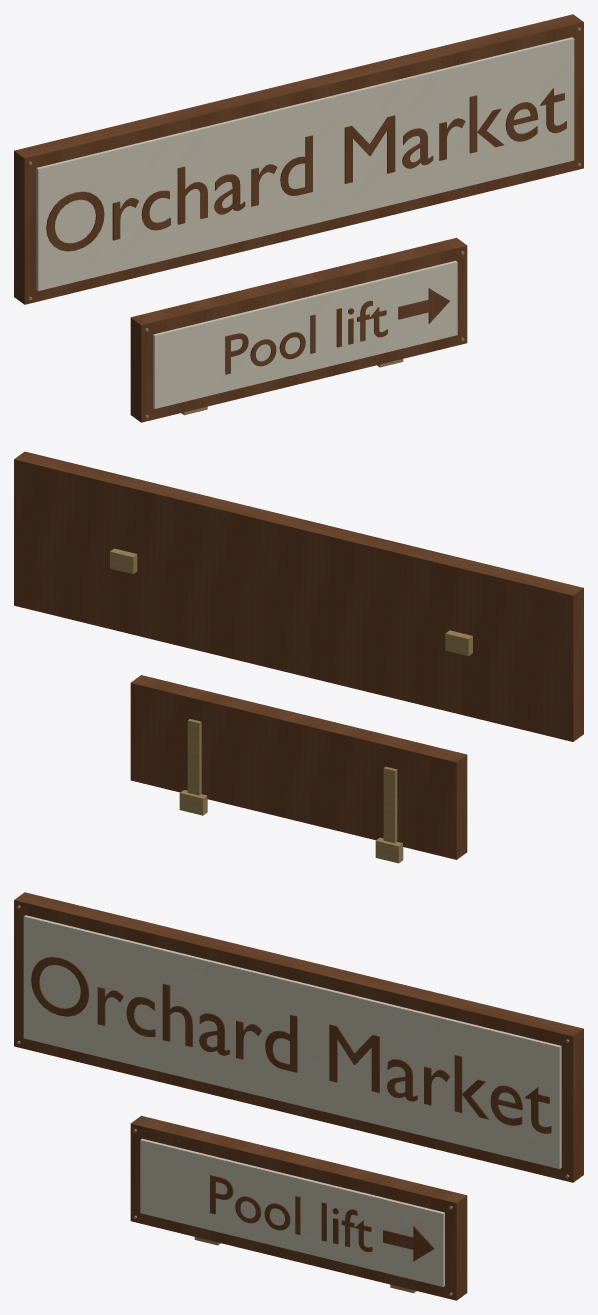
The model's file is AST-RES-001_east_lift_wayfinding.glb.
The picture shows the model from 3 angles, top to bottom: view 1: azimuth 30°, elevation 25°; view 2: azimuth 150°, elevation 25°; view 3: azimuth 330°, elevation 25°; orthographic projection.
Parts seen in each view (by area): view 1: EAST_PWF_main_D09_MapBacking, EAST_PWF_main_D09_MapFrame, EAST_PWF_threshold_lift_MapBacking, EAST_PWF_threshold_lift_MapFrame, EAST_PWF_main_D09_Glyphs_0, EAST_PWF_threshold_lift_Glyphs_0, EAST_Sign_threshold_lift_RouteArrow; view 2: EAST_PWF_main_D09_MapFrame, EAST_PWF_threshold_lift_MapFrame, EAST_PWF_threshold_lift_UpstandingBackstrap_0, EAST_PWF_threshold_lift_UpstandingBackstrap_1, EAST_PWF_main_D09_FixedPad_0, EAST_PWF_main_D09_FixedPad_1, EAST_PWF_threshold_lift_FixedPad_1, EAST_PWF_threshold_lift_FixedPad_0; view 3: EAST_PWF_main_D09_MapBacking, EAST_PWF_main_D09_MapFrame, EAST_PWF_threshold_lift_MapBacking, EAST_PWF_threshold_lift_MapFrame, EAST_PWF_main_D09_Glyphs_0, EAST_PWF_threshold_lift_Glyphs_0, EAST_Sign_threshold_lift_RouteArrow.
Part boxes in pixels (<box>): EAST_PWF_main_D09_MapBacking: <box>36,37,574,290</box>; EAST_PWF_main_D09_MapFrame: <box>14,14,583,304</box>; EAST_PWF_threshold_lift_MapBacking: <box>153,260,457,408</box>; EAST_PWF_threshold_lift_MapFrame: <box>130,237,467,422</box>; EAST_PWF_main_D09_Glyphs_0: <box>46,88,566,251</box>; EAST_PWF_threshold_lift_Glyphs_0: <box>225,300,387,374</box>; EAST_Sign_threshold_lift_RouteArrow: <box>398,288,449,323</box>; EAST_PWF_main_D09_MapFrame: <box>14,451,583,741</box>; EAST_PWF_threshold_lift_MapFrame: <box>130,675,467,859</box>; EAST_PWF_threshold_lift_UpstandingBackstrap_0: <box>383,766,397,843</box>; EAST_PWF_threshold_lift_UpstandingBackstrap_1: <box>187,719,201,795</box>; EAST_PWF_main_D09_FixedPad_0: <box>445,630,472,655</box>; EAST_PWF_main_D09_FixedPad_1: <box>110,548,137,574</box>; EAST_PWF_threshold_lift_FixedPad_1: <box>179,790,207,815</box>; EAST_PWF_threshold_lift_FixedPad_0: <box>375,837,403,863</box>; EAST_PWF_main_D09_MapBacking: <box>23,915,561,1168</box>; EAST_PWF_main_D09_MapFrame: <box>14,892,583,1182</box>; EAST_PWF_threshold_lift_MapBacking: <box>140,1138,444,1286</box>; EAST_PWF_threshold_lift_MapFrame: <box>130,1115,467,1300</box>; EAST_PWF_main_D09_Glyphs_0: <box>31,956,551,1133</box>; EAST_PWF_threshold_lift_Glyphs_0: <box>210,1175,372,1251</box>; EAST_Sign_threshold_lift_RouteArrow: <box>383,1226,434,1261</box>.
Bounding box in the file's own units: 2.4 × 1.26 × 0.131.
6 materials, 6 textured.
